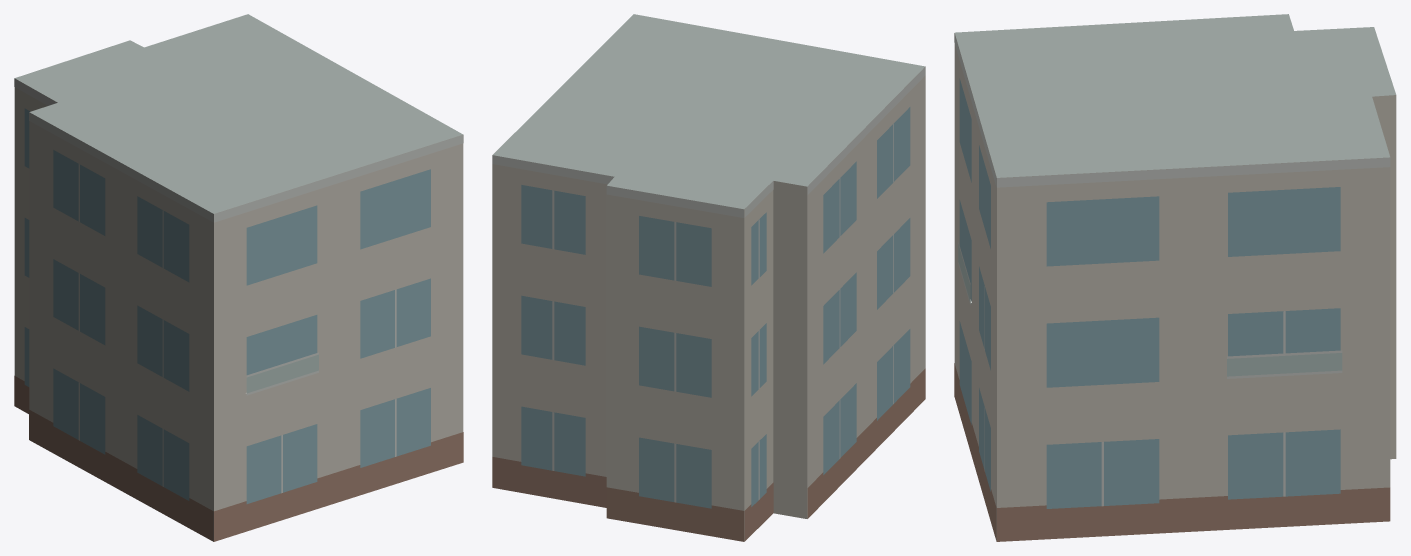
Rendered from survey-upis-32716272.glb.
3 renders of one model, left to right at view 1: azimuth 30°, elevation 25°; view 2: azimuth 150°, elevation 25°; view 3: azimuth 270°, elevation 25°, orthographic. The views are drawn at different scales.
Parts seen in each view (by area): view 1: survey-upis-32716272.tmp; view 2: survey-upis-32716272.tmp; view 3: survey-upis-32716272.tmp.
Boxes of the visible parts, bbox=[...] form: survey-upis-32716272.tmp: bbox=[14, 14, 463, 541]; survey-upis-32716272.tmp: bbox=[492, 14, 925, 541]; survey-upis-32716272.tmp: bbox=[954, 14, 1396, 541].
Size of the model in its own units: 8.85 by 9.15 by 10.08.
